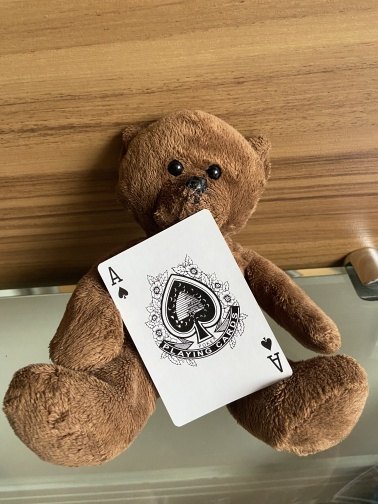ace: (95, 207, 294, 428)
